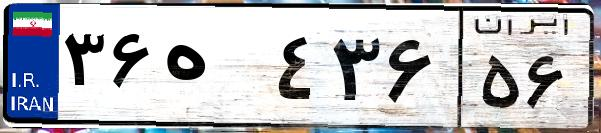3: (330, 28, 385, 110), (57, 26, 110, 100)
4: (270, 28, 330, 110)
5: (475, 38, 525, 113)
6: (385, 28, 445, 110), (525, 38, 570, 115), (110, 28, 158, 98)
ه: (158, 20, 270, 120)
